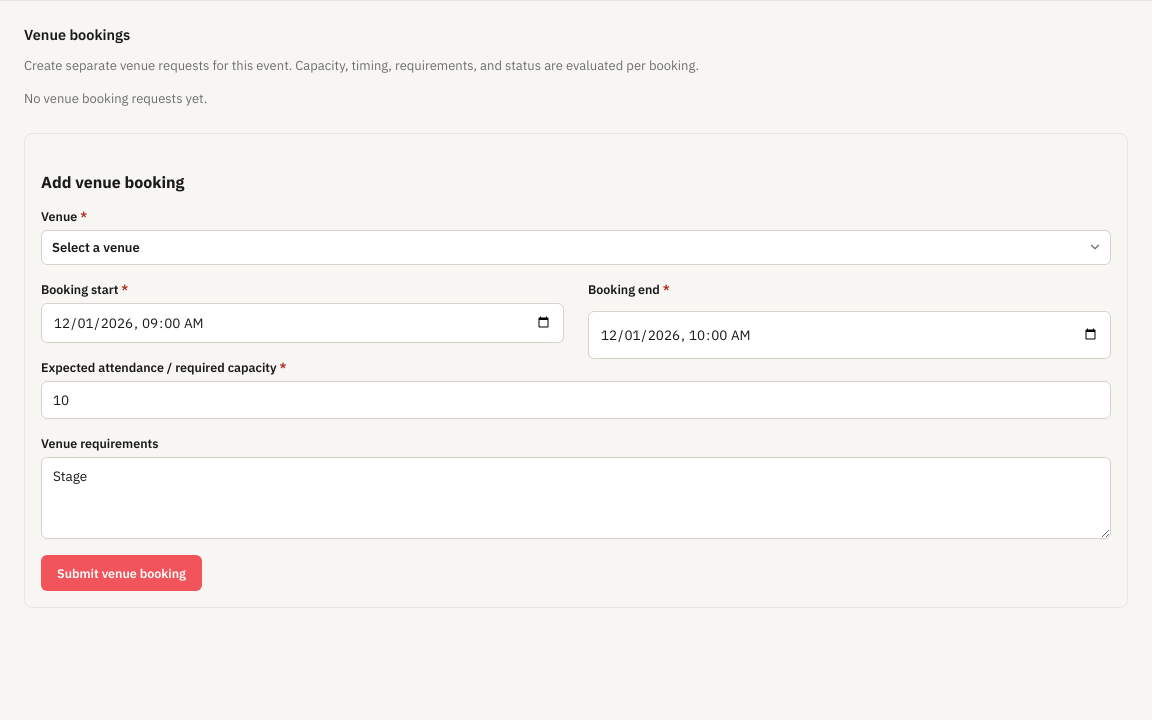
SCRUM-30 non-contract failure 409 is not a false availability result
expect the text "No venue booking requests yet." is shown: met, box [24,90,207,107]
Select "Hall · capacity 100" in the dropdown labelled "Venue *". click: coordinates (576, 247)
box: [41,230,1111,264]
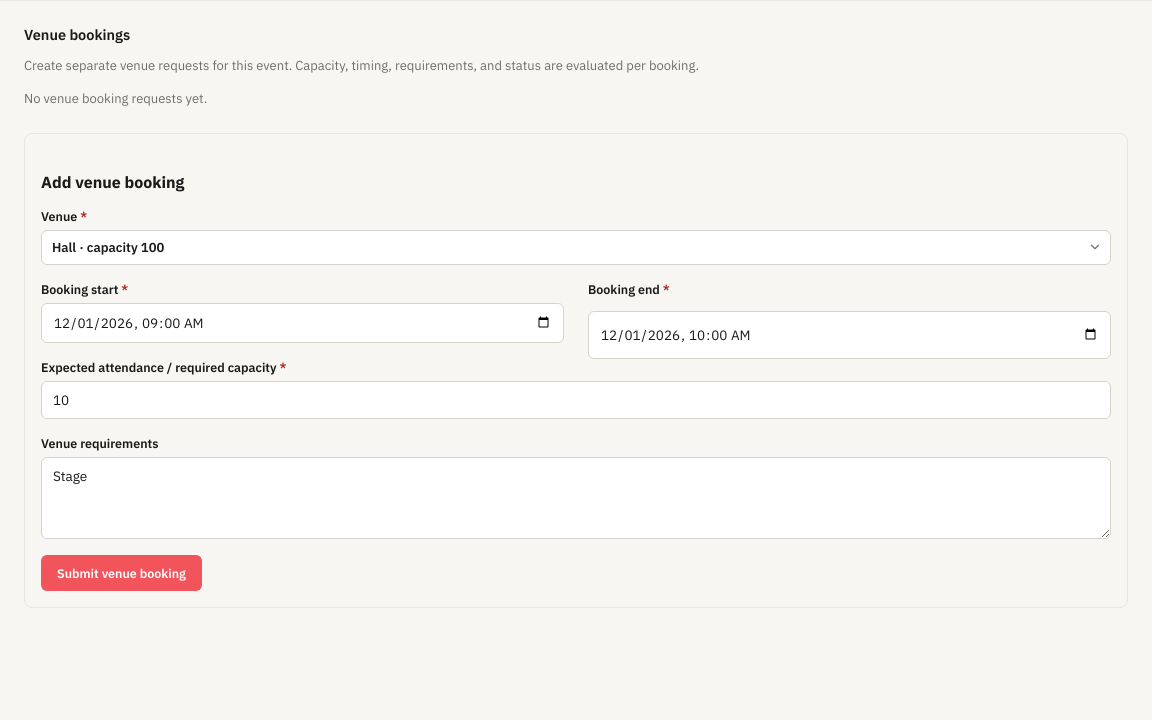
Click the button "Submit venue booking". click: coordinates (121, 572)
box: [41,554,202,590]
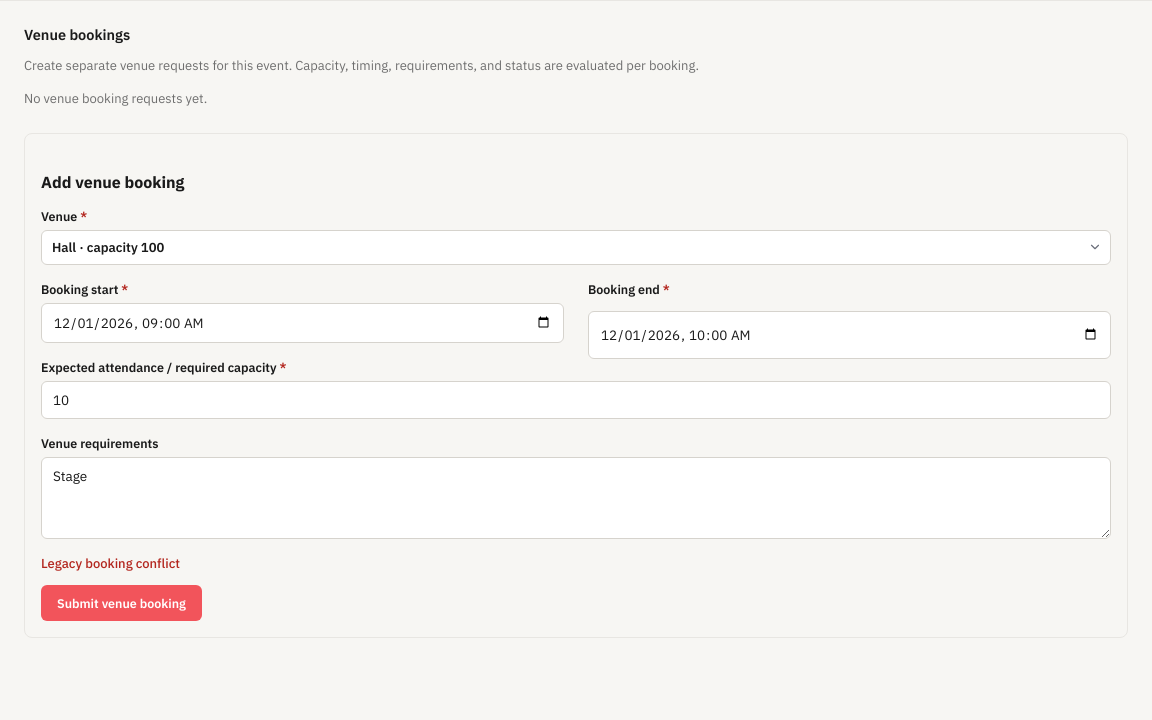
expect the message does not show "Request not submitted": met, box [41,554,180,572]
expect the message reads "Legacy booking conflict": met, box [41,554,180,572]
